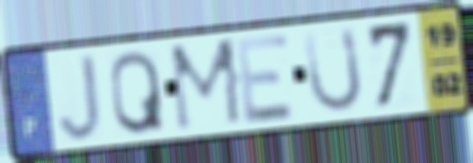7: (366, 18, 415, 112)
E: (233, 30, 298, 127)
J: (56, 51, 104, 144)
M: (167, 34, 247, 135)
Q: (108, 47, 167, 138)
U: (302, 24, 365, 116)
